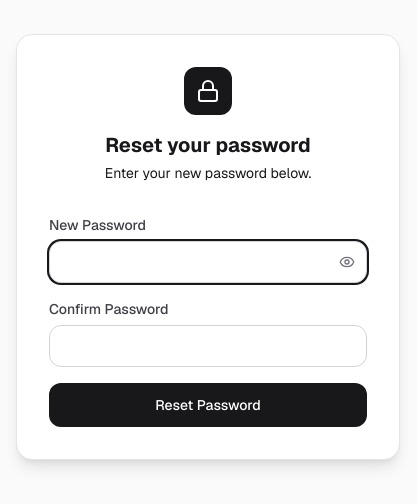
Scenario: ResetPasswordPage › shows error when password is too short
Type "short" into the password field labelled "New Password" at {"x": 208, "y": 262}, box [49, 241, 367, 283]
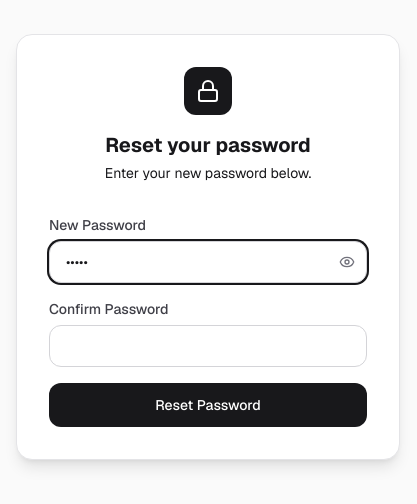
Type "short" into the password field labelled "Confirm Password" at {"x": 208, "y": 346}, box [49, 325, 367, 367]
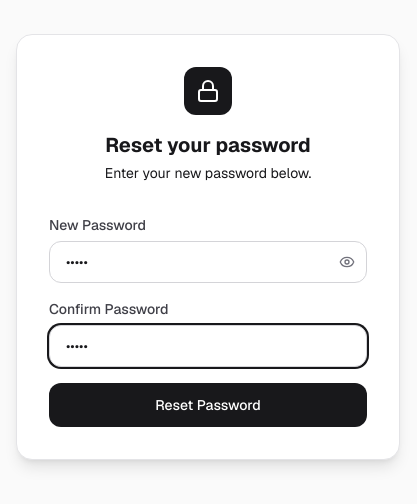
Click the button "Reset Password" at {"x": 208, "y": 405}, box [49, 383, 367, 427]
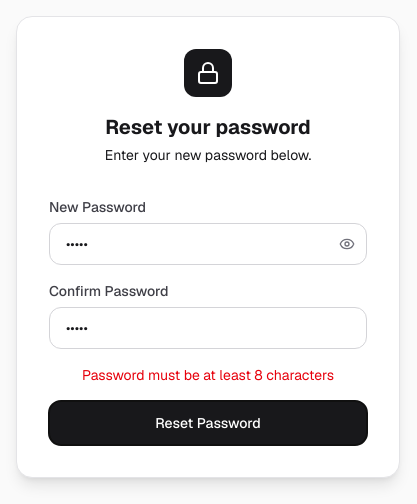
Now the text "Password must be at least 8 characters" is shown, box [82, 366, 334, 384]
